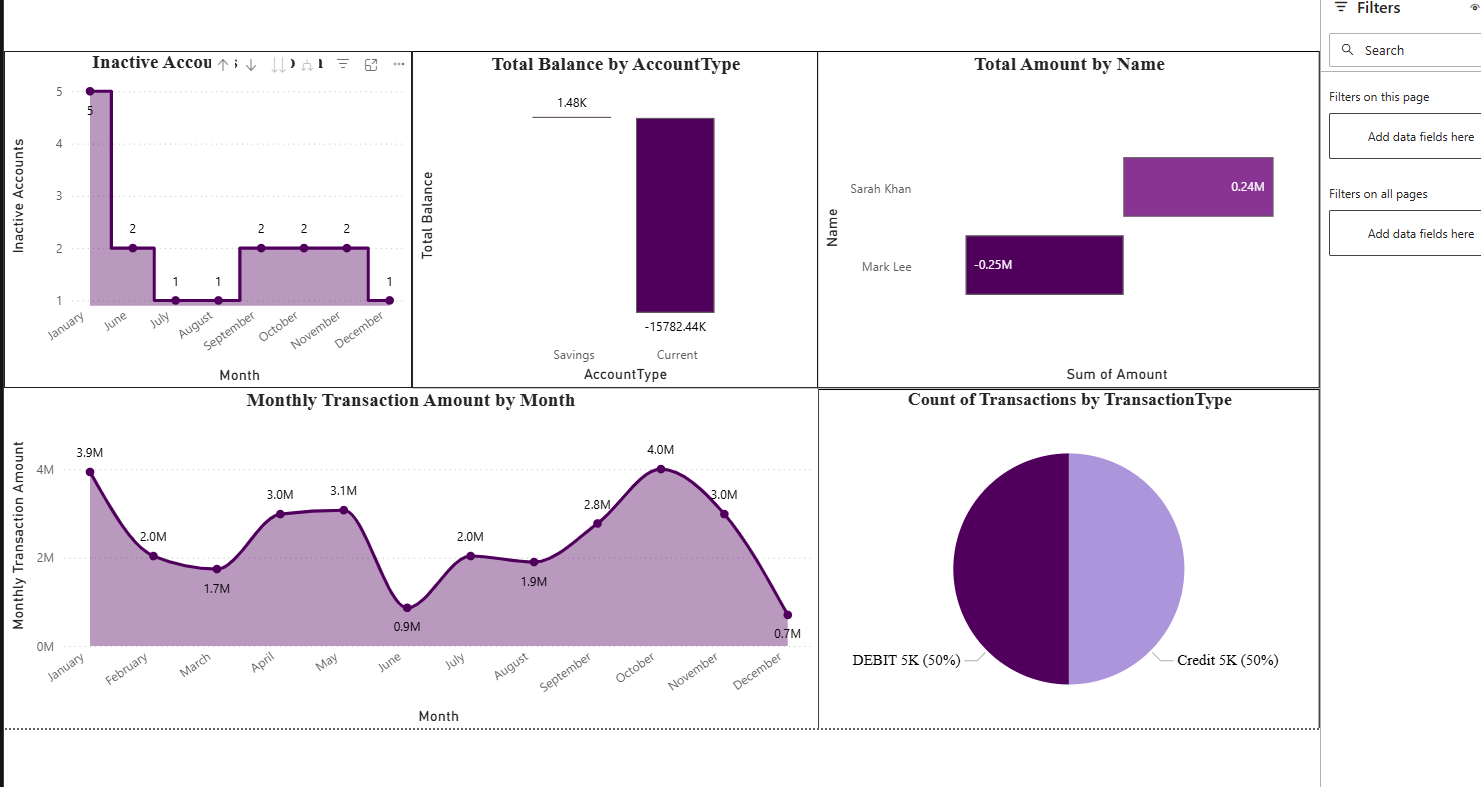

This screenshot's page, from the dashboard's own definition file:
{"tool":"powerbi","page":{"name":"Page 1","canvas":[1280,720],"ordinal":0},"visuals":[{"type":"pieChart","fields":{"Category":["CombinedBankingDataset.TransactionType"],"Y":["Measures Table.Count of Transactions"]},"box":[792,389.9,488,331],"z":0},{"type":"areaChart","fields":{"Category":["CombinedBankingDataset.TransactionDate.Variation.Date Hierarchy.Month"],"Y":["Measures Table.Monthly Transaction Amount"]},"box":[0,389.9,792,331],"z":1000},{"type":"barChart","title":"Total Amount by Name","fields":{"Y":["Sum(CombinedBankingDataset.Amount)"],"Category":["CombinedBankingDataset.Name"]},"box":[791,61.4,489,327.7],"z":2000},{"type":"clusteredColumnChart","fields":{"Y":["Measures Table.Total Balance"],"Category":["CombinedBankingDataset.AccountType"]},"box":[396.6,61.3,394.7,327.7],"z":3000},{"type":"lineChart","fields":{"Y":["Measures Table.Inactive Accounts"],"Category":["CombinedBankingDataset.TransactionDate.Variation.Date Hierarchy.Year","CombinedBankingDataset.TransactionDate.Variation.Date Hierarchy.Month"]},"box":[0,61.2,396.8,327.8],"z":4000}]}

Visuals, with their boxes on the page's 1280x720 design canvas (x1, y1, x2, y2). These are canvas units, not pixel positions in the 1481x787 screenshot, which may show the page scaled, cropped or inside an application window:
pieChart - CombinedBankingDataset.TransactionType x Measures Table.Count of Transactions: rect(792, 390, 1280, 721)
areaChart - CombinedBankingDataset.TransactionDate.Variation.Date Hierarchy.Month x Measures Table.Monthly Transaction Amount: rect(0, 390, 792, 721)
"Total Amount by Name" barChart: rect(791, 61, 1280, 389)
clusteredColumnChart - Measures Table.Total Balance x CombinedBankingDataset.AccountType: rect(397, 61, 791, 389)
lineChart - Measures Table.Inactive Accounts x CombinedBankingDataset.TransactionDate.Variation.Date Hierarchy.Year: rect(0, 61, 397, 389)
